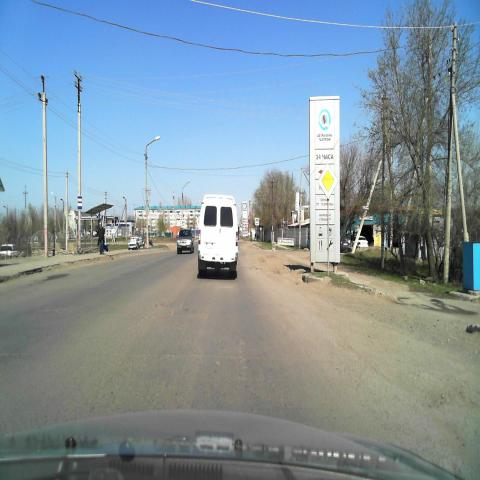2_1: (318, 163, 338, 199)
2_4: (293, 213, 298, 221)
5_16: (77, 196, 82, 210)
5_19_1: (254, 217, 260, 226)
